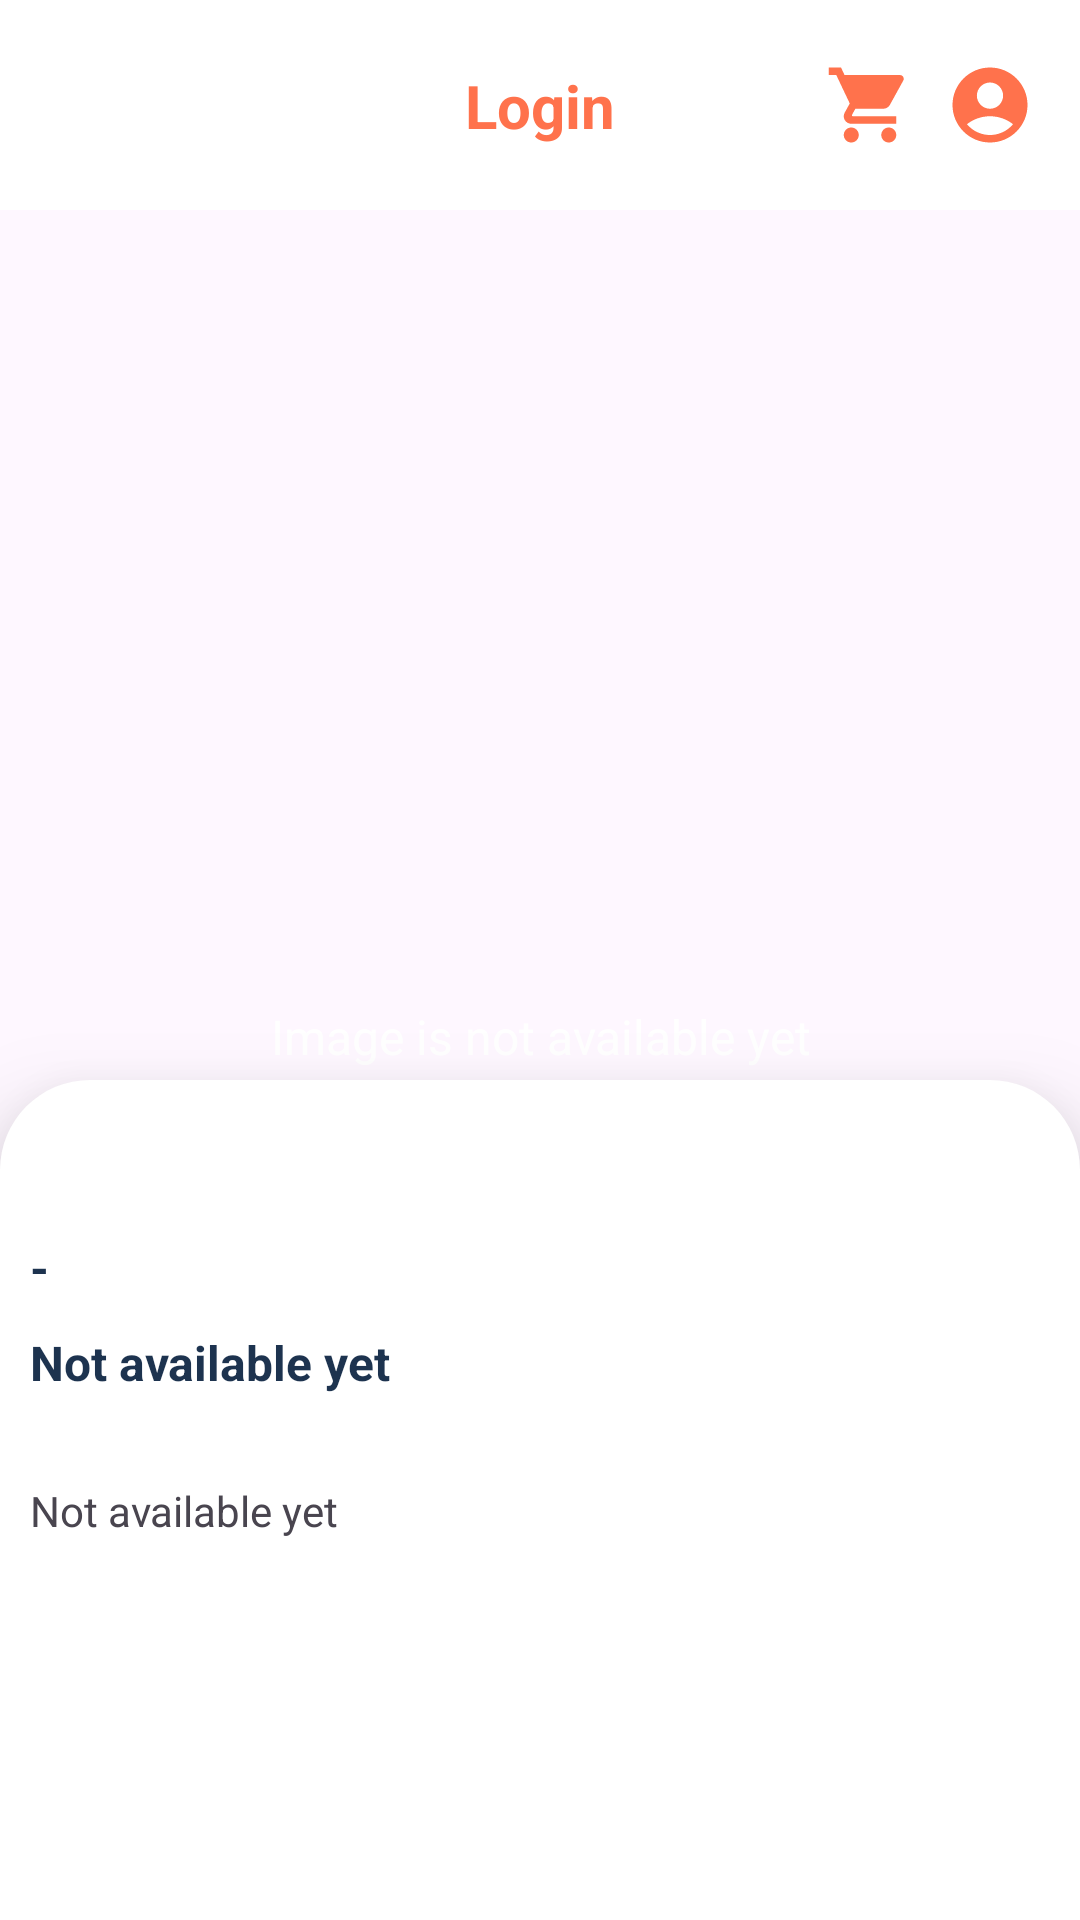

Locate icon controls on the screen. Image size 1080 x 1920, boxes as Rect(x1, y1, x2, y2).
account circle: Rect(952, 67, 1028, 143)
shopping cart: Rect(828, 67, 904, 143)
